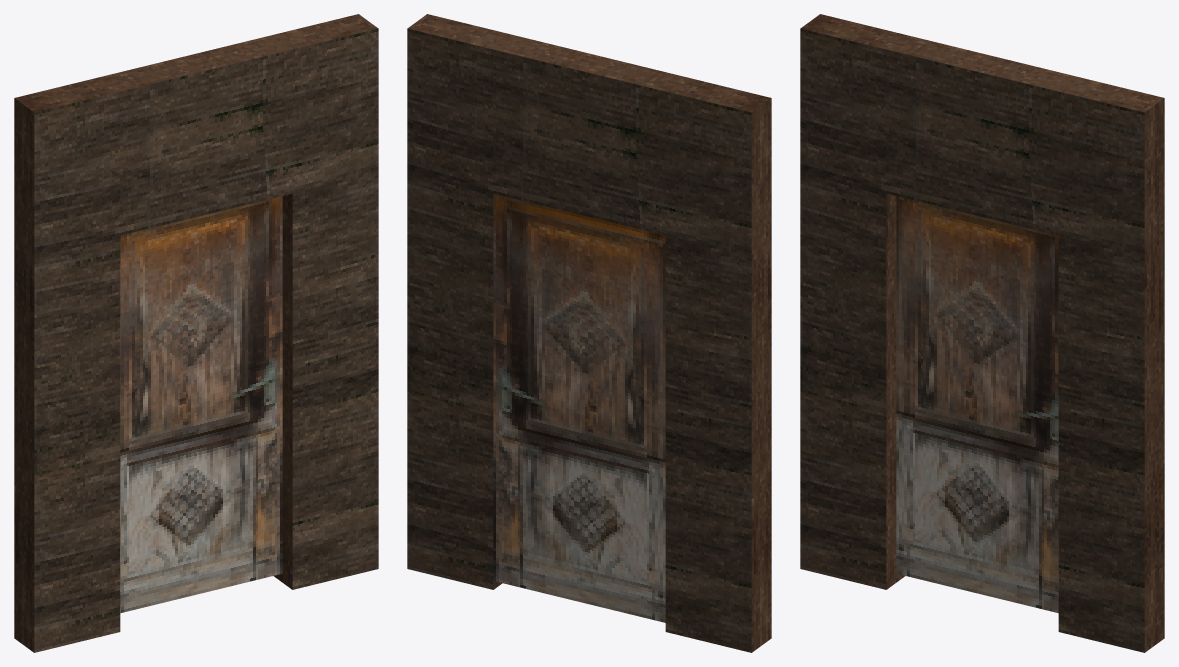
The model's file is door_single_03.glb.
The picture shows the model from 3 angles, left to right: view 1: azimuth 30°, elevation 25°; view 2: azimuth 150°, elevation 25°; view 3: azimuth 330°, elevation 25°; orthographic projection.
Visible parts, largest first — view 1: door_single_032, door_03_002; view 2: door_single_032, door_03_002; view 3: door_single_032, door_03_002.
Boxes of the visible parts, left/top/right/bottom form: door_single_032: left=14, top=14, right=378, bottom=652; door_03_002: left=120, top=196, right=282, bottom=613; door_single_032: left=407, top=14, right=771, bottom=652; door_03_002: left=493, top=193, right=665, bottom=622; door_single_032: left=800, top=14, right=1164, bottom=652; door_03_002: left=896, top=196, right=1058, bottom=613.
Bounding box in the file's own units: 2 × 3 × 0.2.
2 materials, 2 textured.
